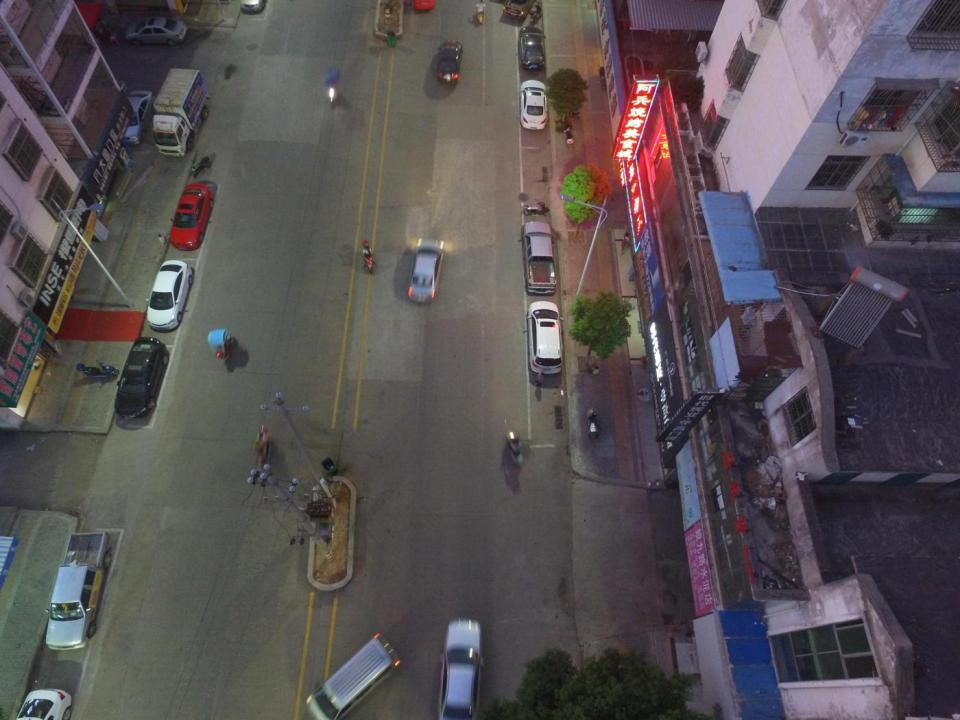car: (436, 617, 486, 720), (114, 336, 170, 419), (146, 259, 194, 332), (169, 182, 214, 251), (526, 301, 564, 375), (407, 236, 445, 304), (116, 88, 157, 146), (125, 14, 188, 46), (519, 80, 549, 130), (436, 39, 464, 84), (518, 26, 546, 70)
truck: (305, 631, 402, 720), (43, 530, 112, 652), (152, 68, 211, 158), (522, 222, 557, 294)
